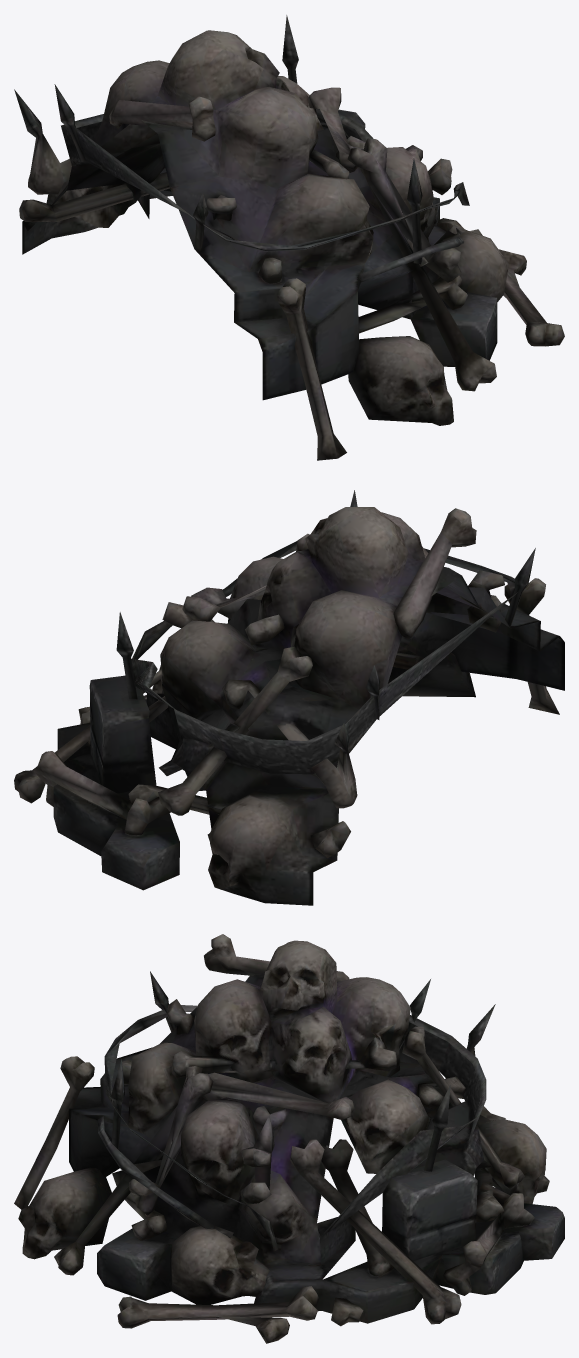
File: bone_pile.glb
3 views of the same model, one above another, from view 1: azimuth 30°, elevation 25°; view 2: azimuth 150°, elevation 25°; view 3: azimuth 270°, elevation 25° (orthographic). The views are drawn at different scales.
Parts seen in each view (by area): view 1: tripo_node_413831b9-4ed6-4f17-bae6-3cd8ea648c77; view 2: tripo_node_413831b9-4ed6-4f17-bae6-3cd8ea648c77; view 3: tripo_node_413831b9-4ed6-4f17-bae6-3cd8ea648c77.
Boxes of the visible parts, x1,y1,x2,y2 form: tripo_node_413831b9-4ed6-4f17-bae6-3cd8ea648c77: [14, 15, 564, 460]; tripo_node_413831b9-4ed6-4f17-bae6-3cd8ea648c77: [14, 490, 564, 905]; tripo_node_413831b9-4ed6-4f17-bae6-3cd8ea648c77: [14, 934, 564, 1343].
Bounding box in the file's own units: 0.7402 × 0.5527 × 0.998.
Materials: 1 (1 with a texture image).
